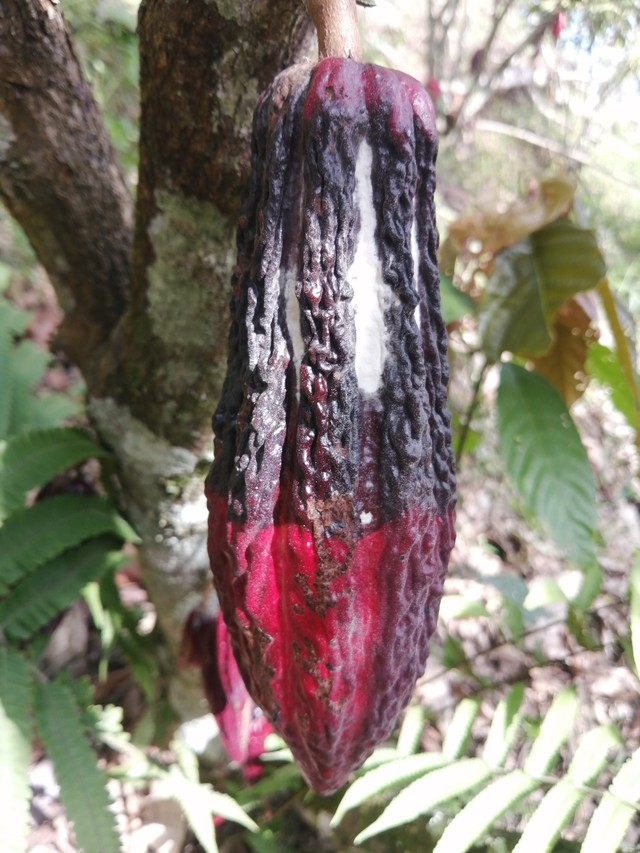moniliophthora roreri: (188, 47, 487, 807)
